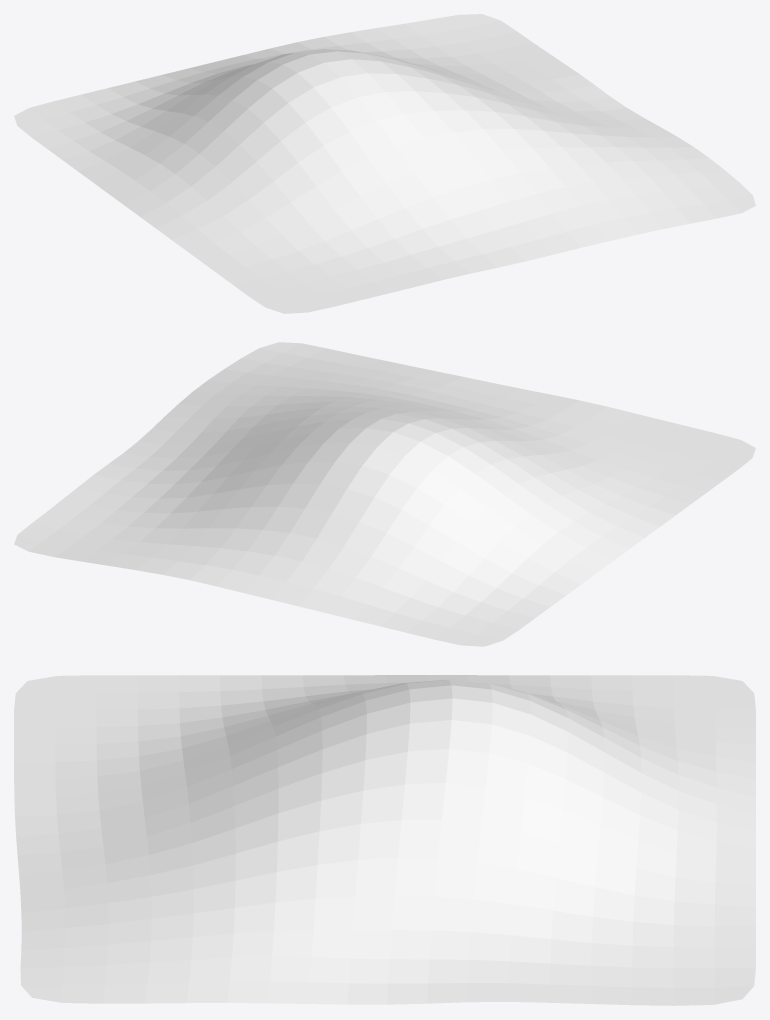
File: hill.gltf
3 views of the same model, one above another, from view 1: azimuth 30°, elevation 25°; view 2: azimuth 150°, elevation 25°; view 3: azimuth 270°, elevation 25° (orthographic). The views are drawn at different scales.
Visible parts, largest first — view 1: Plane; view 2: Plane; view 3: Plane.
Part boxes in pixels (x1=…): Plane: x1=14, y1=14, x2=755, y2=313; Plane: x1=14, y1=342, x2=755, y2=646; Plane: x1=14, y1=675, x2=755, y2=1005.
Size of the model in its own units: 2.49 by 0.4695 by 2.45.
1 material, 1 textured.
